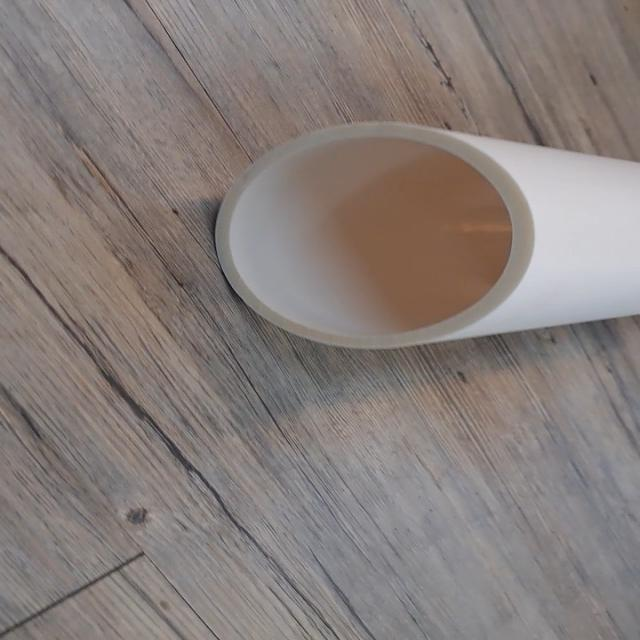CORAL: (169, 77, 640, 404)
